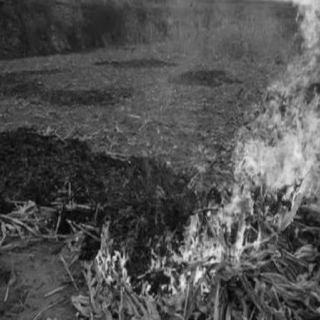Fire: (230, 2, 317, 206), (138, 198, 252, 294), (94, 214, 141, 294)
